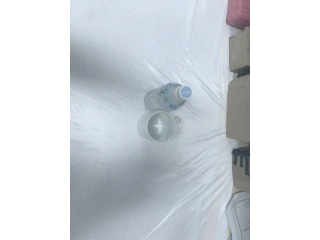bottle: (144, 83, 192, 112)
box: (231, 145, 250, 194)
cup: (137, 111, 183, 145)
